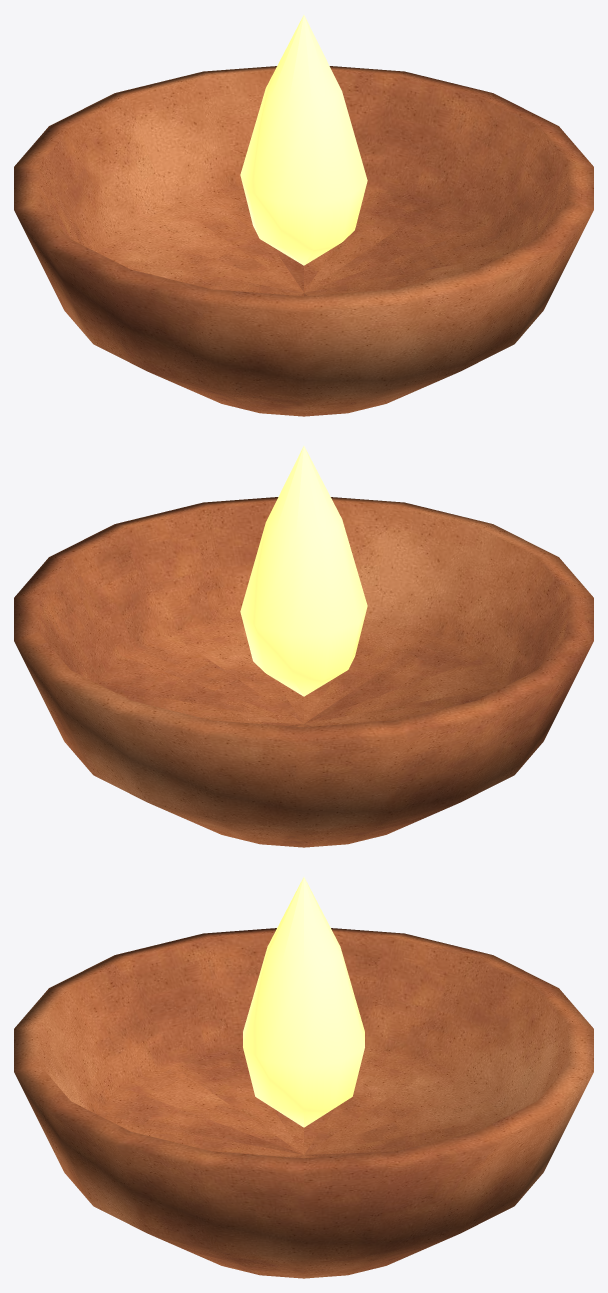
Rendered from oil-lamp.glb.
3 views of the same model, one above another, from view 1: azimuth 30°, elevation 25°; view 2: azimuth 150°, elevation 25°; view 3: azimuth 270°, elevation 25° (orthographic).
Visible parts, largest first — view 1: lamp, flame; view 2: lamp, flame; view 3: lamp, flame.
Boxes of the visible parts, x1,y1,x2,y2 form: lamp: [14, 66, 593, 416]; flame: [240, 15, 367, 265]; lamp: [14, 497, 593, 847]; flame: [240, 446, 367, 696]; lamp: [14, 928, 593, 1278]; flame: [243, 877, 364, 1127].
Bounding box in the file's own units: 0.552 × 0.36 × 0.5436.
Materials: 2 (1 with a texture image).
